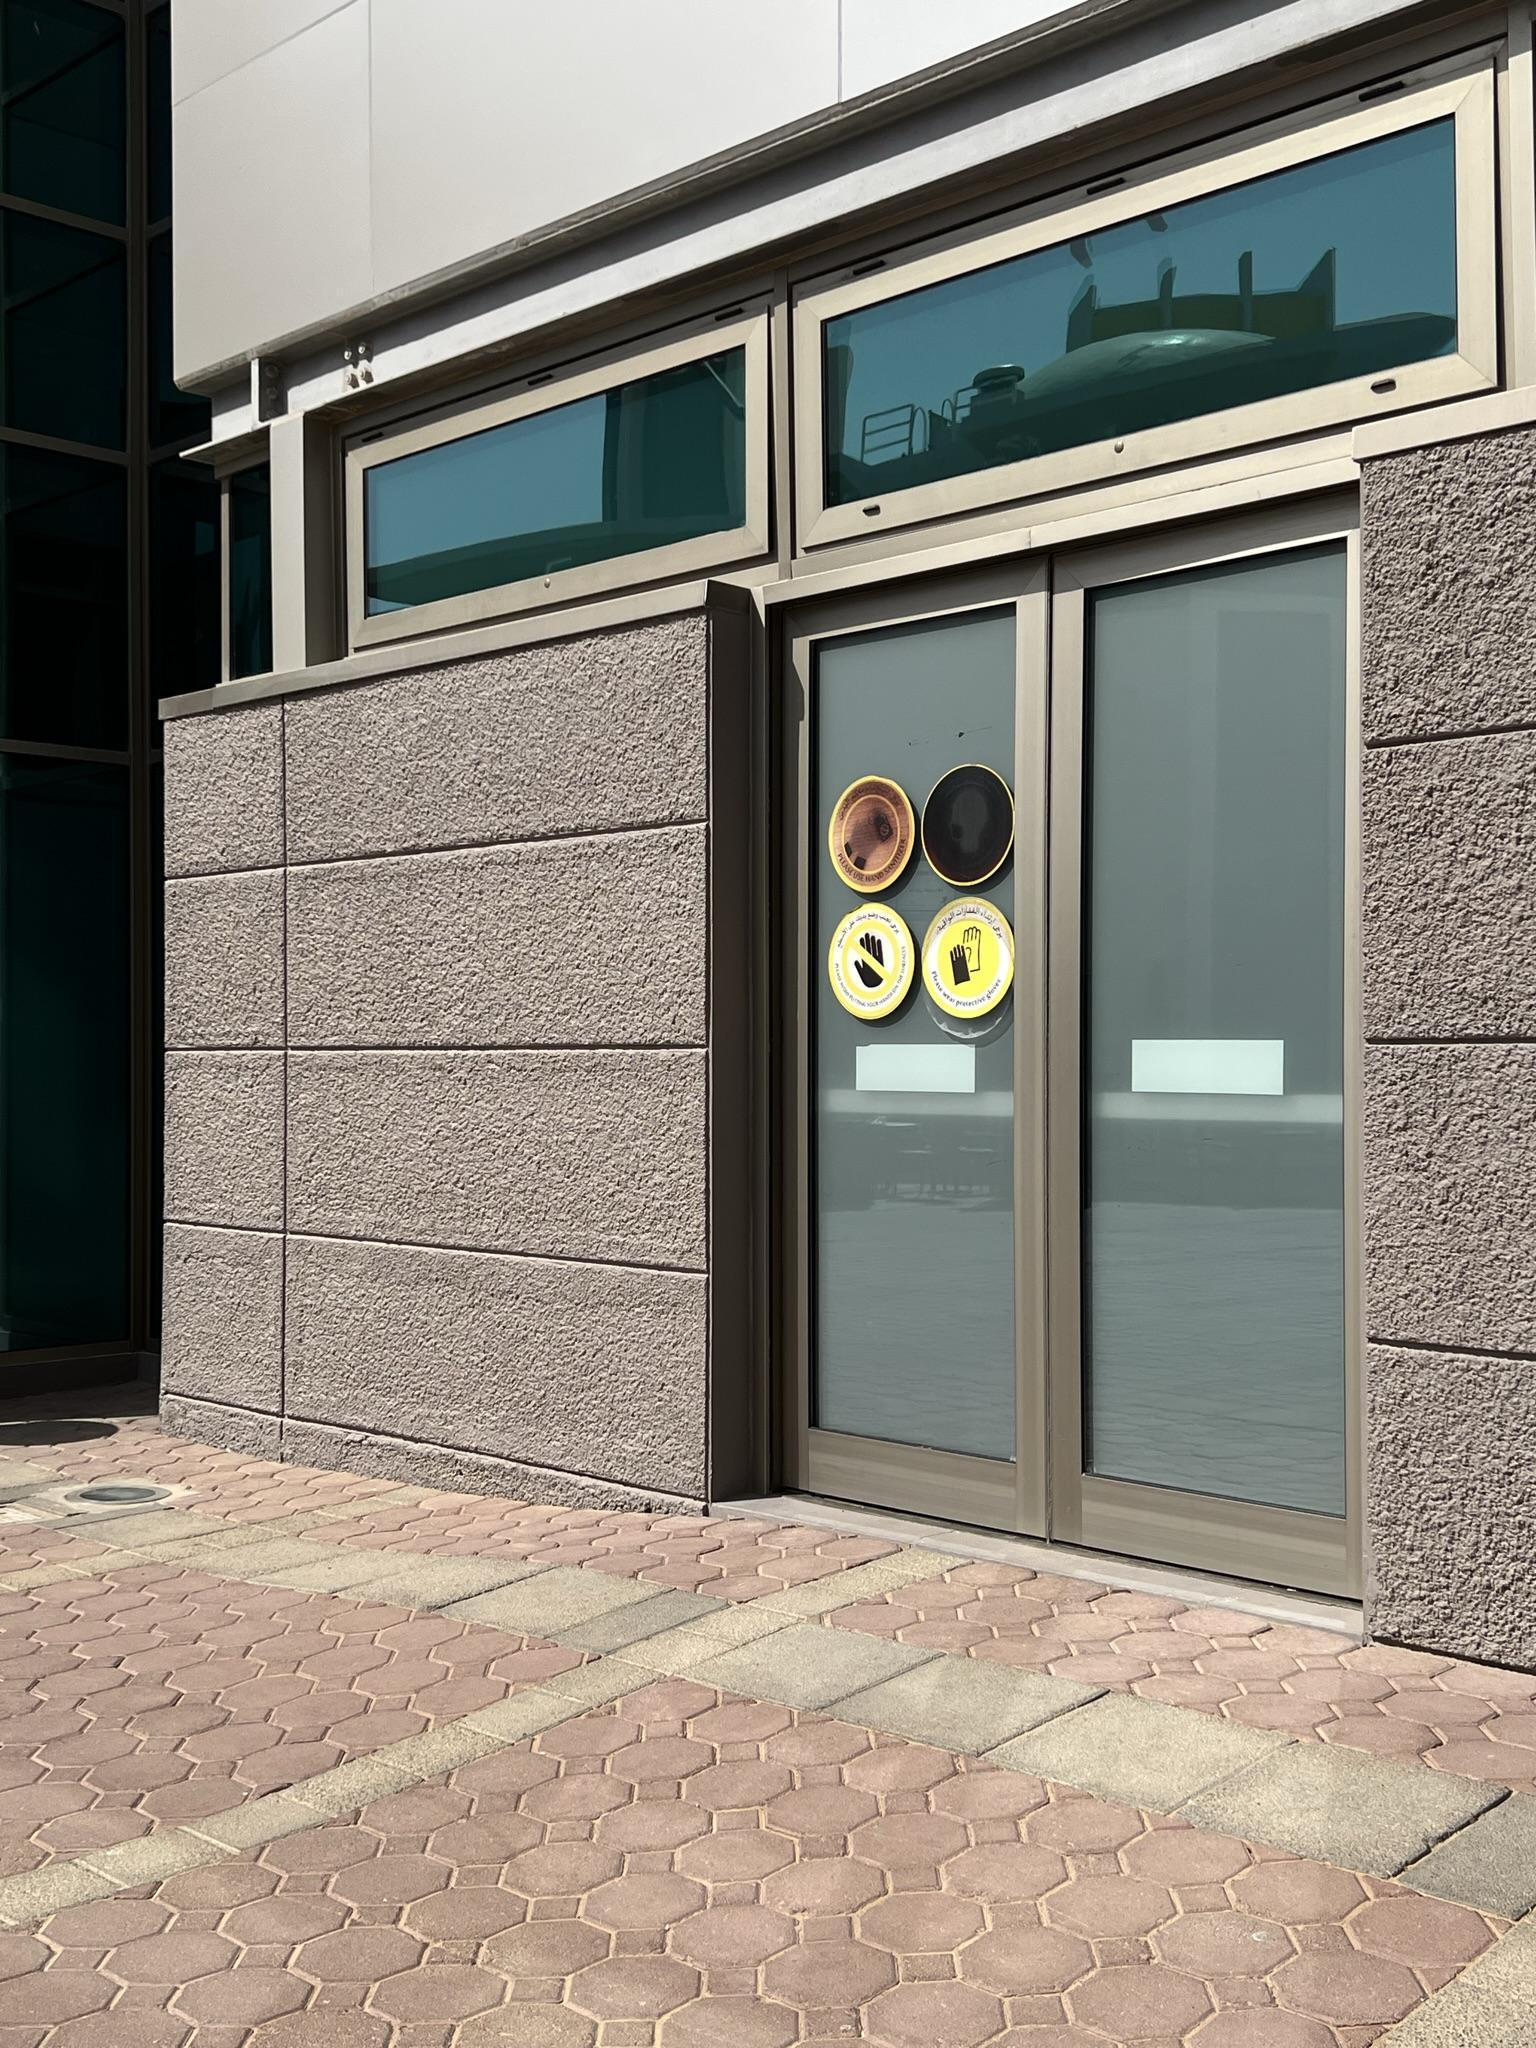door: (1062, 540, 1368, 1590), (742, 561, 1070, 1530)
